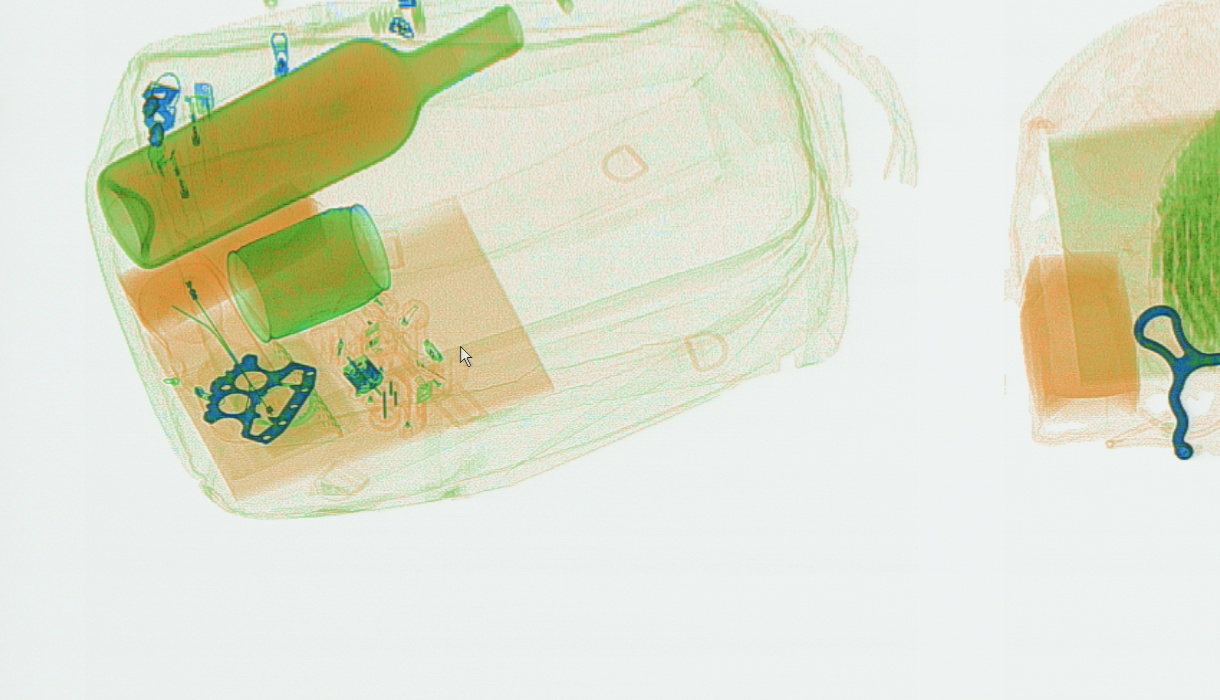firecrackers: (1141, 95, 1217, 378)
lighter: (143, 134, 203, 243), (183, 80, 222, 189)
slingshot: (1133, 303, 1216, 460)
